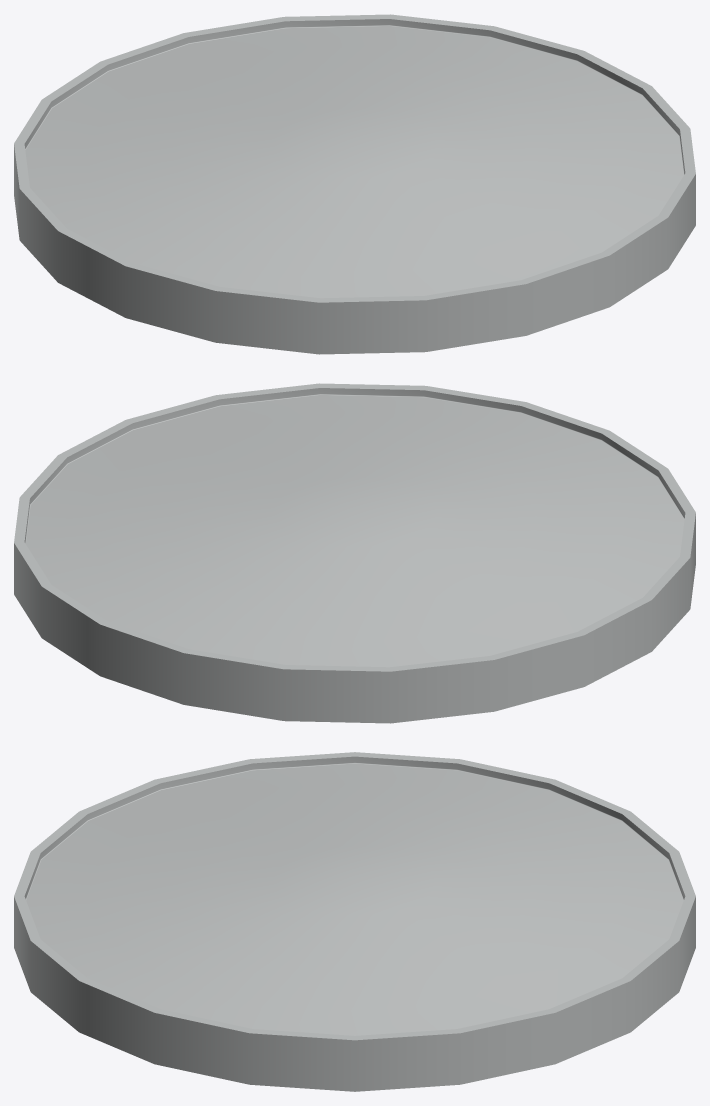
Rendered from asset.glb.
3 views of the same model, one above another, from view 1: azimuth 30°, elevation 25°; view 2: azimuth 150°, elevation 25°; view 3: azimuth 270°, elevation 25° (orthographic).
Parts seen in each view (by area): view 1: pCylinder1; view 2: pCylinder1; view 3: pCylinder1.
Part boxes in pixels (x1,y1,x2,y2): pCylinder1: [14, 14, 695, 354]; pCylinder1: [14, 383, 695, 723]; pCylinder1: [14, 752, 695, 1091].
Bounding box in the file's own units: 0.6 × 0.0684 × 0.6.
Materials: 1 (1 with a texture image).
